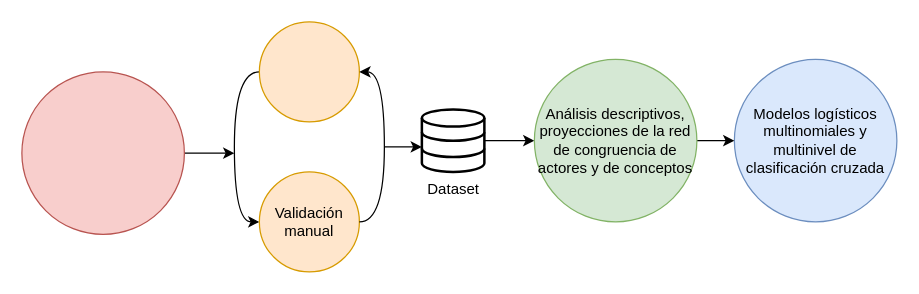
Some shapes in this 919 by 294 pixel diagram are drawn without their labels. The shapes that lost their labels are listed below. From the top down, each one's centre as x and y in pixels, then its label:
point (308, 71): Codificación asistida por LLMs
point (102, 152): Extracción y limpieza de datos y elaboración de libro de códigos
